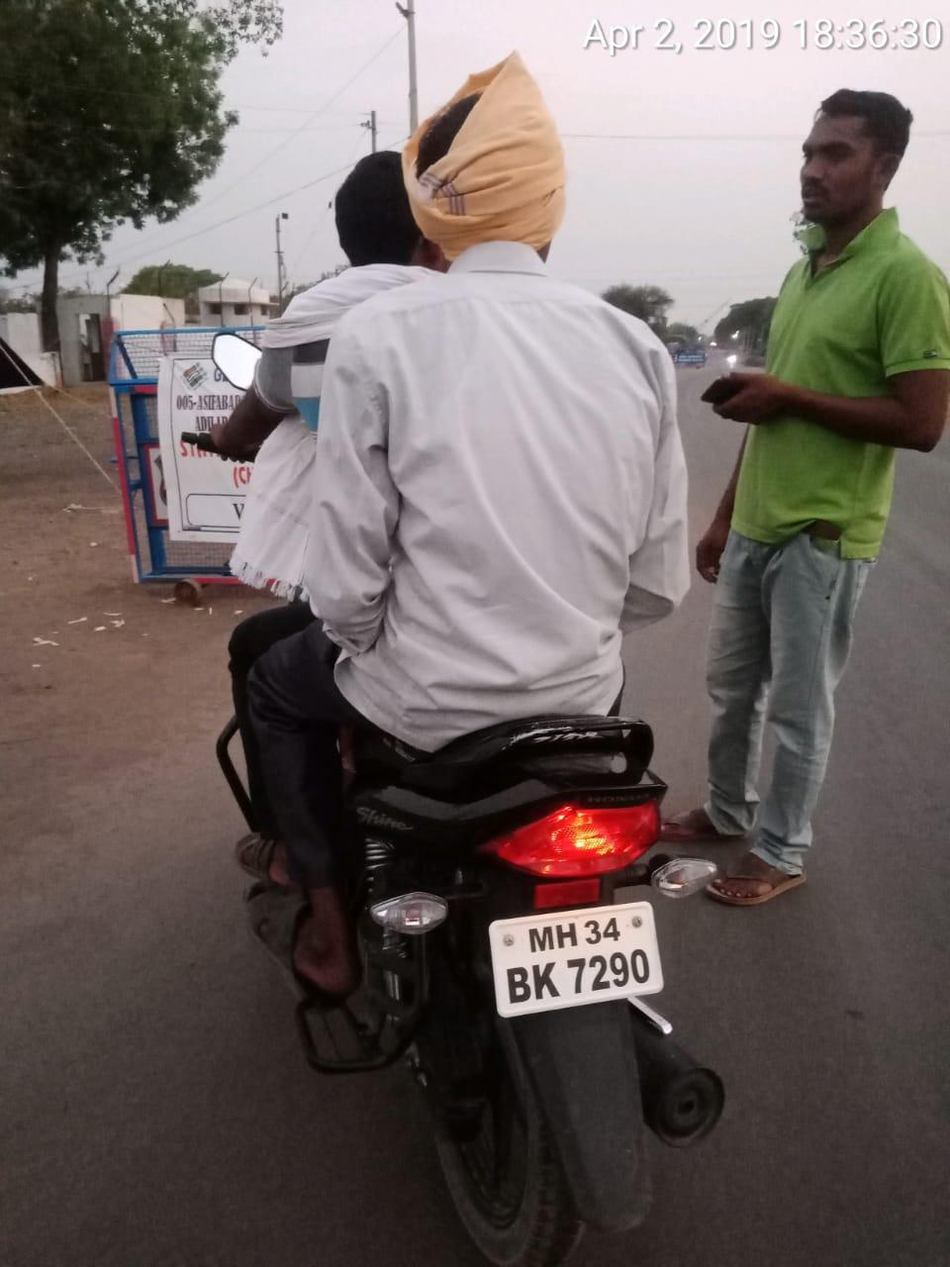plate: (462, 875, 694, 1035)
